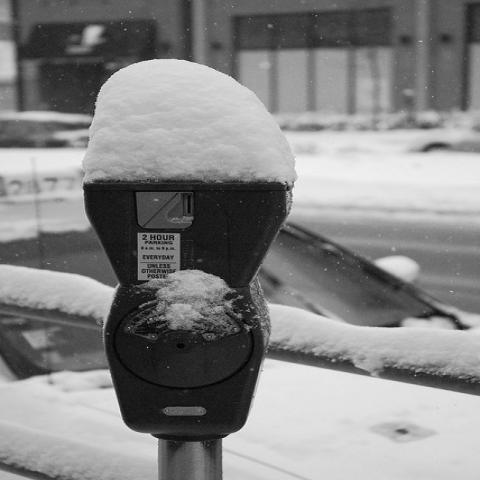car: (0, 146, 479, 474), (1, 109, 92, 146), (407, 117, 479, 153)
